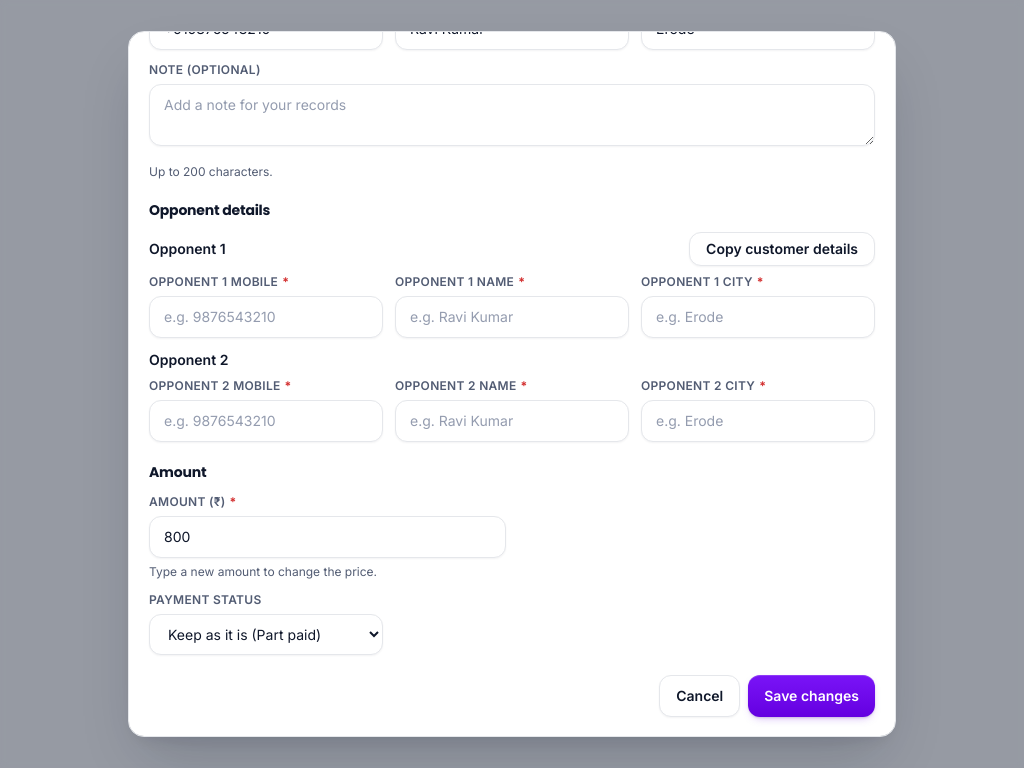
Edit booking (JusGo) › on an open ground it also asks both opponents
(page scrolled)
Expected: the heading "Opponent details" is shown, [149,200,270,220]
Click the button "Save changes": click(812, 696) [748,675,875,717]
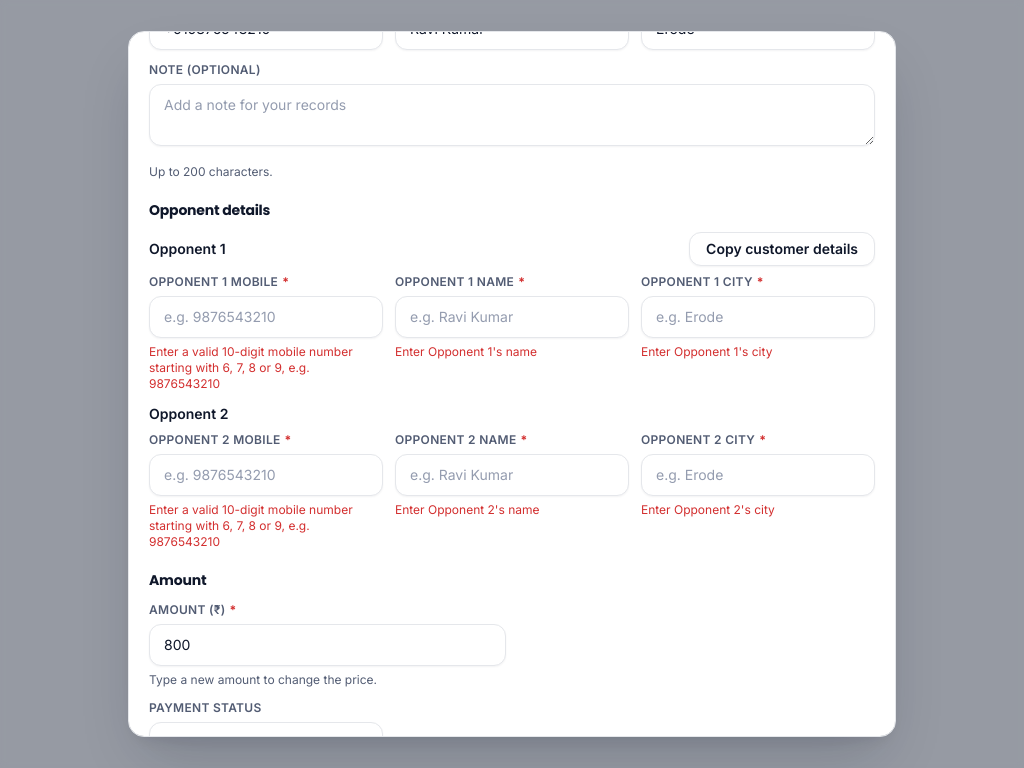
Expected: the text "Enter Opponent 1's name" is shown, [395,344,537,359]
